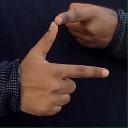hand: (18, 20, 109, 116), (54, 2, 118, 48)
